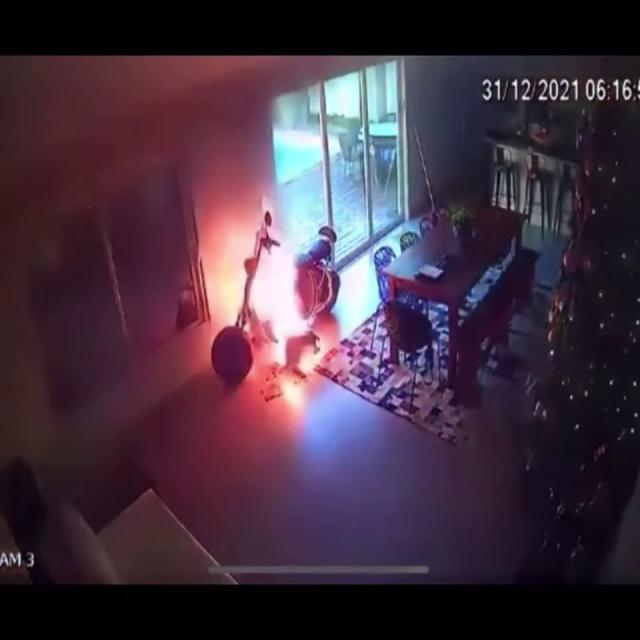Fire: (246, 188, 318, 427)
